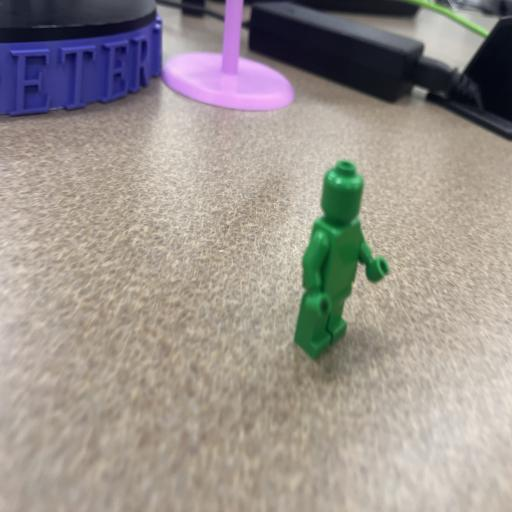Lego-Minifig: (294, 160, 389, 358), (315, 268, 338, 335)
